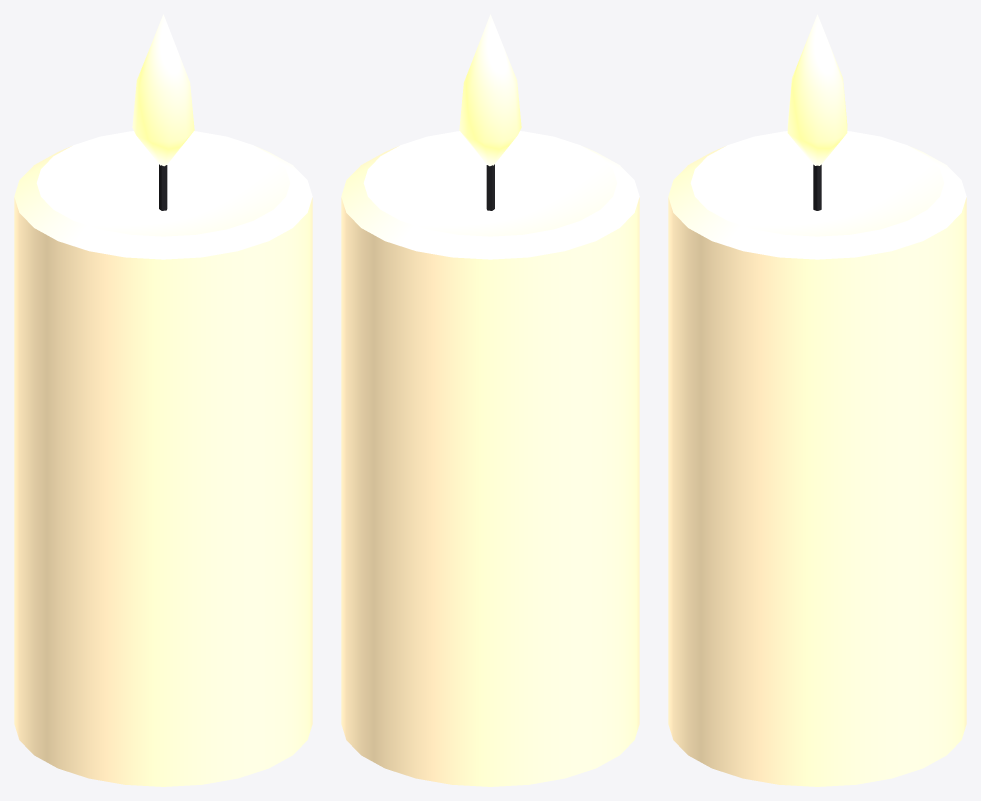
File: JAC_29_Vela_Pilar.glb
3 views of the same model, side by side, from view 1: azimuth 30°, elevation 25°; view 2: azimuth 150°, elevation 25°; view 3: azimuth 270°, elevation 25° (orthographic).
Visible parts, largest first — view 1: JAC_29_Vela_Pilar; view 2: JAC_29_Vela_Pilar; view 3: JAC_29_Vela_Pilar.
Part boxes in pixels (left/top/right/bottom): JAC_29_Vela_Pilar: left=14, top=14, right=312, bottom=786; JAC_29_Vela_Pilar: left=341, top=14, right=639, bottom=786; JAC_29_Vela_Pilar: left=668, top=14, right=966, bottom=786.
Bounding box in the file's own units: 0.08 × 0.21 × 0.08.
